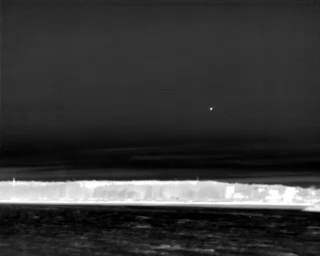HELICOPTER: (207, 105, 215, 114)
